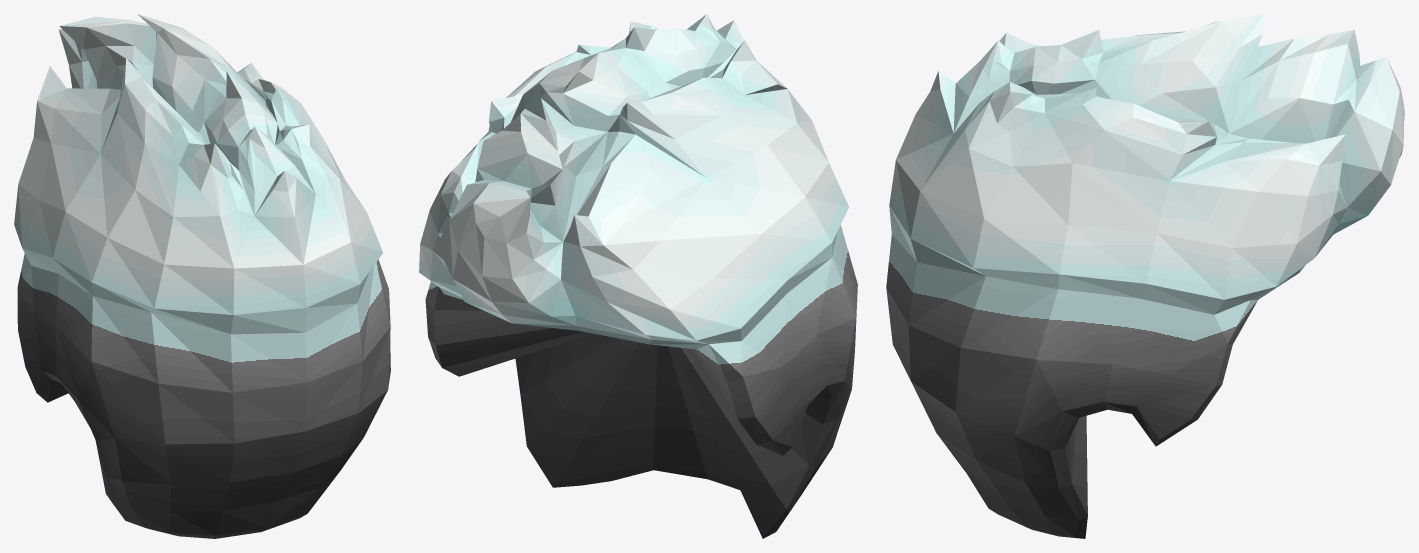
File: CharSkyKid_Hair_AP18SideFade.glb
3 renders of one model, left to right at view 1: azimuth 30°, elevation 25°; view 2: azimuth 150°, elevation 25°; view 3: azimuth 270°, elevation 25°, orthographic. The views are drawn at different scales.
Visible parts, largest first — view 1: CharSkyKid_Hair_AP18SideFade; view 2: CharSkyKid_Hair_AP18SideFade; view 3: CharSkyKid_Hair_AP18SideFade.
Boxes of the visible parts, x1,y1,x2,y2 form: CharSkyKid_Hair_AP18SideFade: (14,14,390,538); CharSkyKid_Hair_AP18SideFade: (419,14,857,538); CharSkyKid_Hair_AP18SideFade: (886,14,1404,538).
Size of the model in its own units: 2.27 by 3.04 by 2.97.
Materials: 1 (1 with a texture image).
